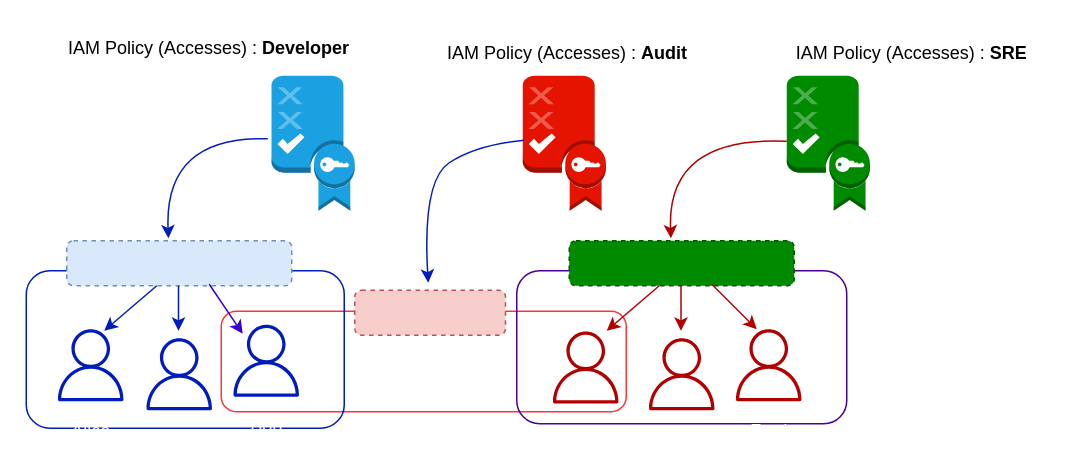
The diagram is 1068 pixels wide and 476 high, and some of its shapes have lost their labels. The shapes that lost their labels are listed below. From the top down, each one's box as (x1, y1, x2, y2) in pixels, then its label:
(65, 239, 292, 286): IAM Group: Developer
(568, 239, 794, 286): IAM Group: SRE
(353, 289, 506, 335): IAM Group: Audit
